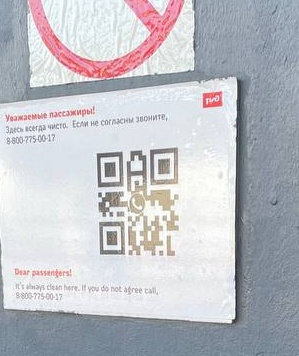2d: (96, 145, 180, 257)
